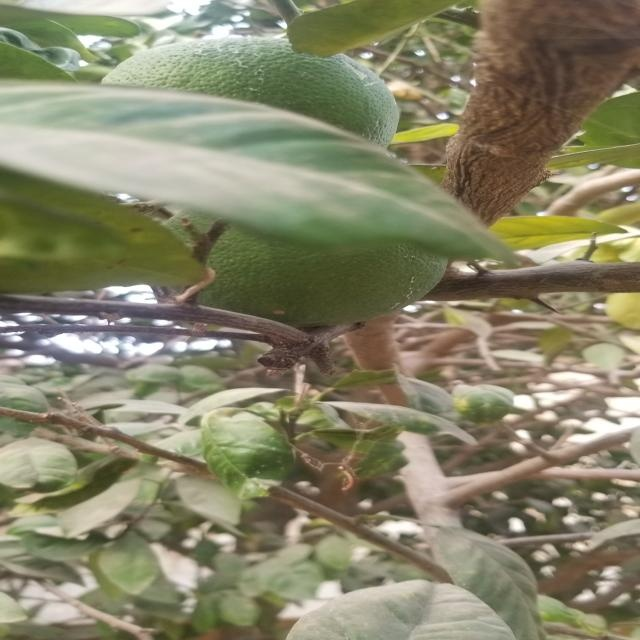agrume: (104, 35, 385, 151)
